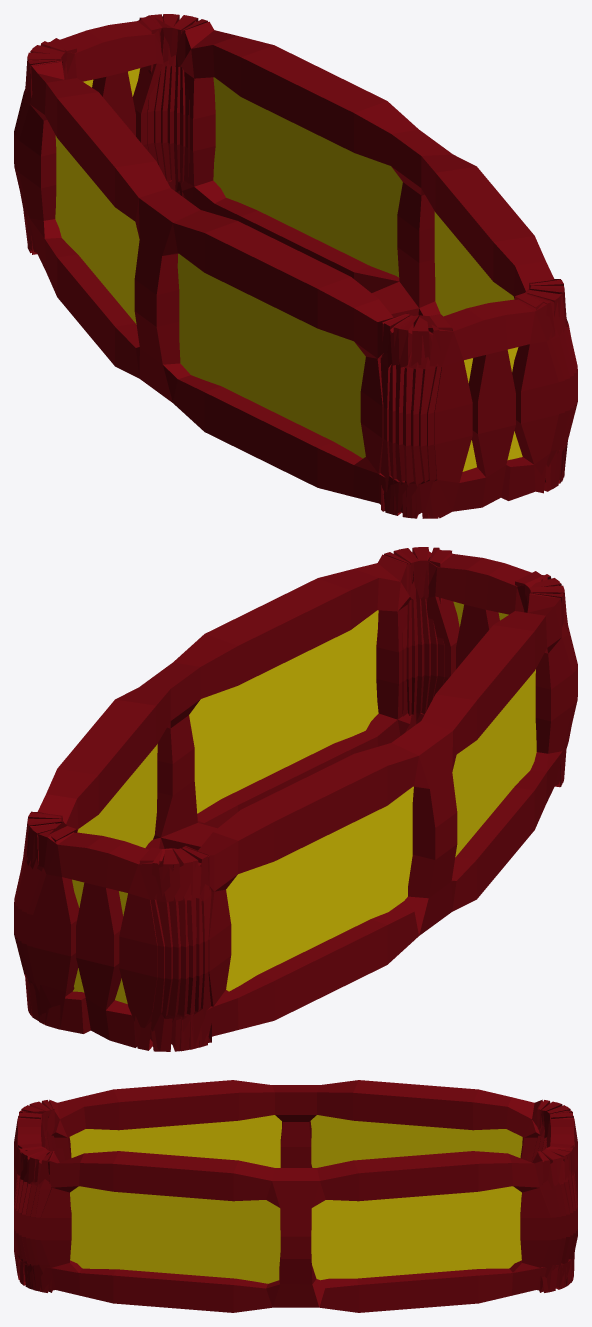
Rendered from boat.glb.
3 renders of one model, top to bottom at view 1: azimuth 30°, elevation 25°; view 2: azimuth 150°, elevation 25°; view 3: azimuth 270°, elevation 25°, orthographic. The views are drawn at different scales.
Visible parts, largest first — view 1: boat_outside, boat_inside; view 2: boat_outside, boat_inside; view 3: boat_outside, boat_inside.
Boxes of the visible parts, x1,y1,x2,y2 form: boat_outside: [14, 14, 577, 518]; boat_inside: [55, 68, 522, 471]; boat_outside: [14, 547, 577, 1051]; boat_inside: [72, 601, 536, 1003]; boat_outside: [14, 1080, 577, 1312]; boat_inside: [69, 1115, 522, 1283].
Bounding box in the file's own units: 2.61 × 1.65 × 6.04.
